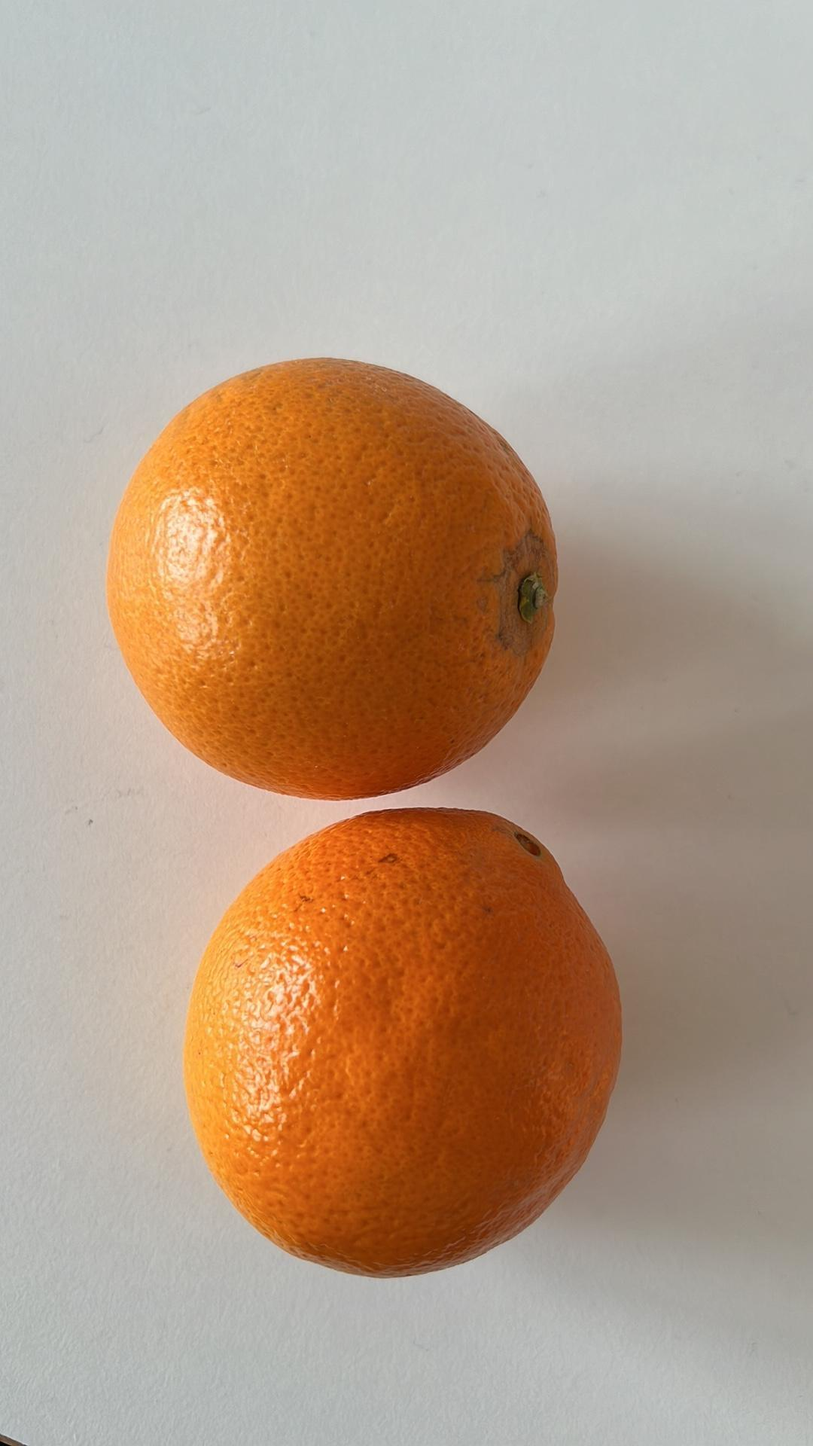orange: (179, 796, 634, 1282), (105, 348, 561, 804)
